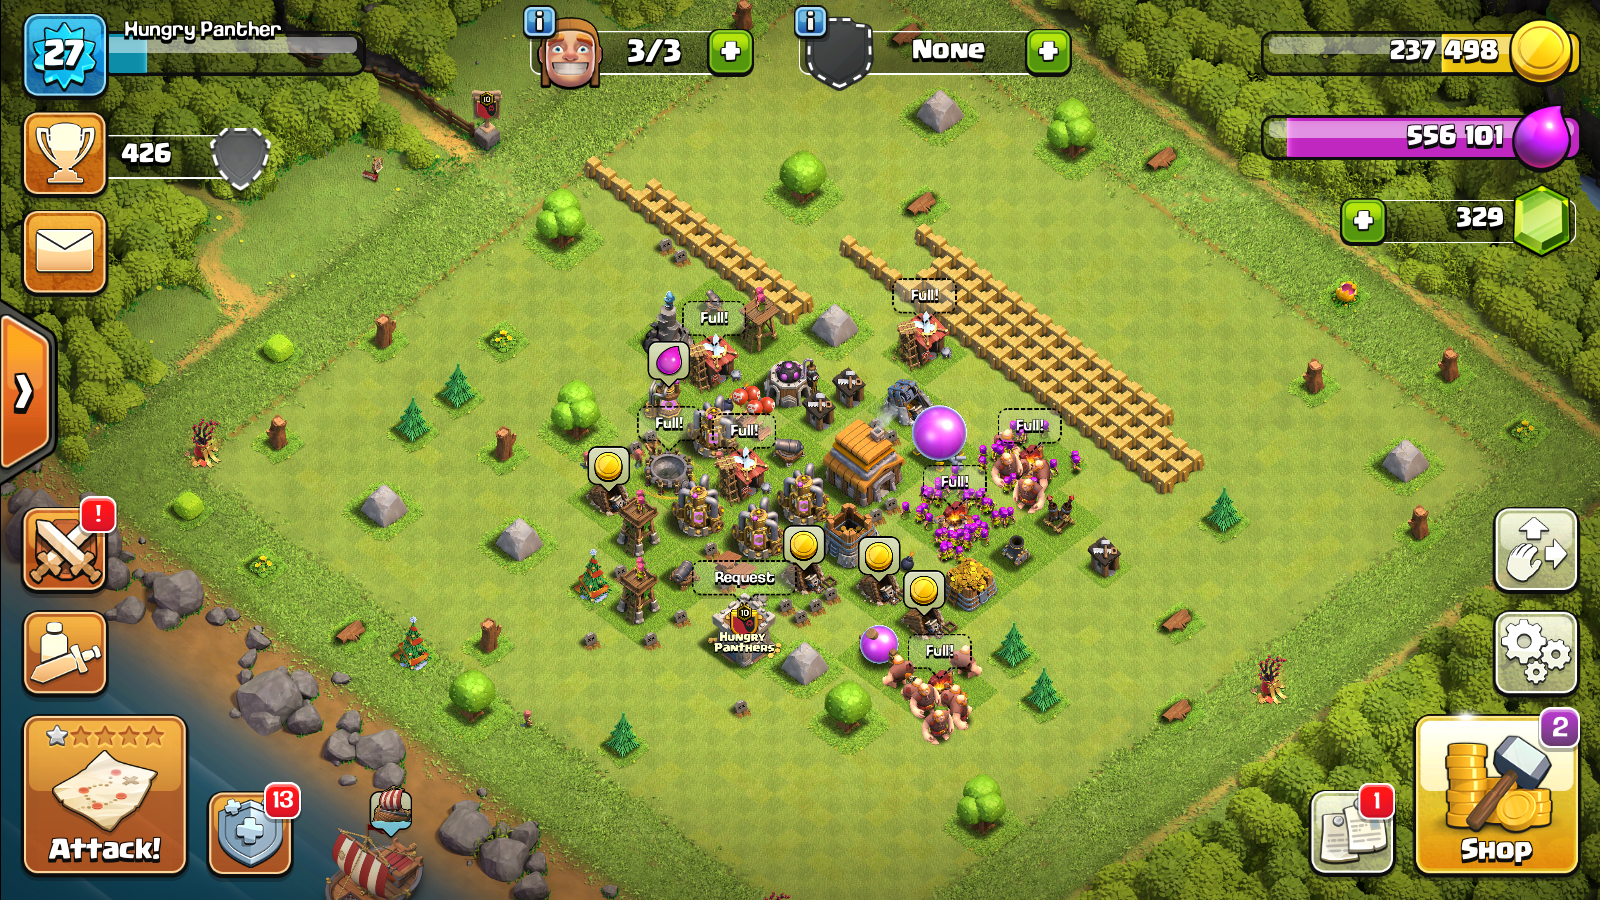army_full: (892, 276, 957, 313), (999, 405, 1064, 443), (923, 465, 987, 498), (910, 633, 969, 668)
gold_collect: (585, 446, 630, 487), (903, 573, 945, 611), (782, 525, 825, 563), (860, 538, 899, 578)
start_attack: (24, 715, 184, 874), (27, 748, 184, 867), (44, 753, 166, 834)
